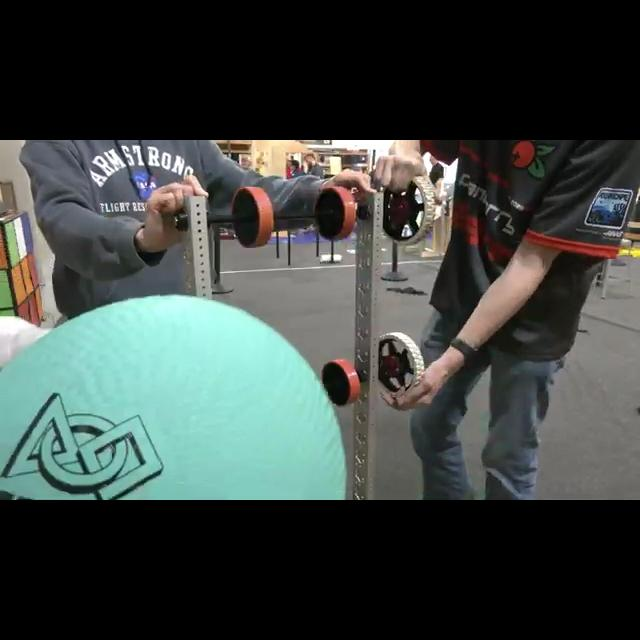ALGAE: (0, 292, 348, 498)
